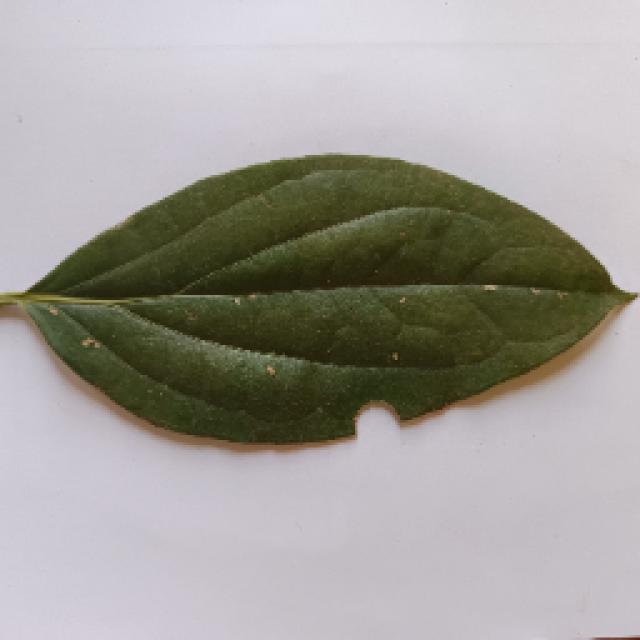pollu-disease: (0, 158, 630, 440)
